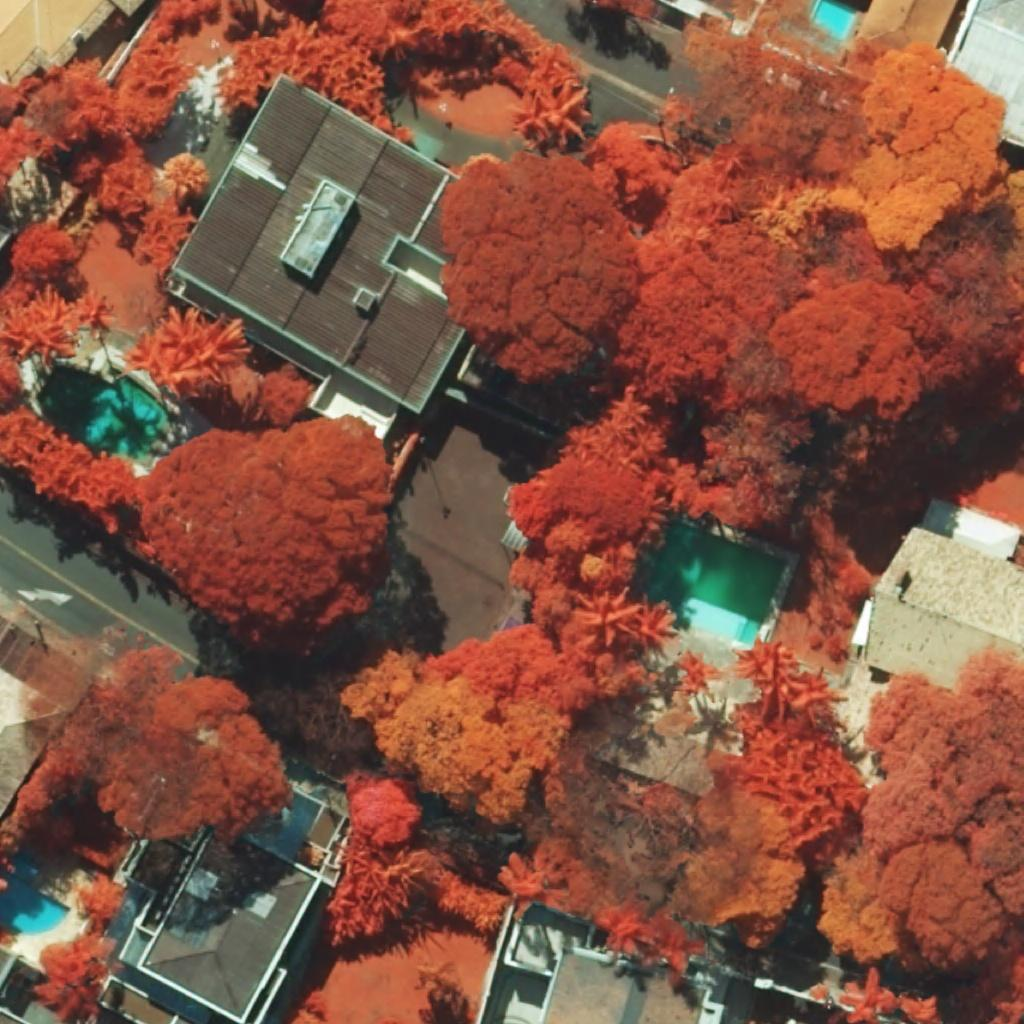pool: (643, 521, 787, 647), (36, 366, 170, 461), (0, 856, 71, 935), (812, 0, 857, 40)
